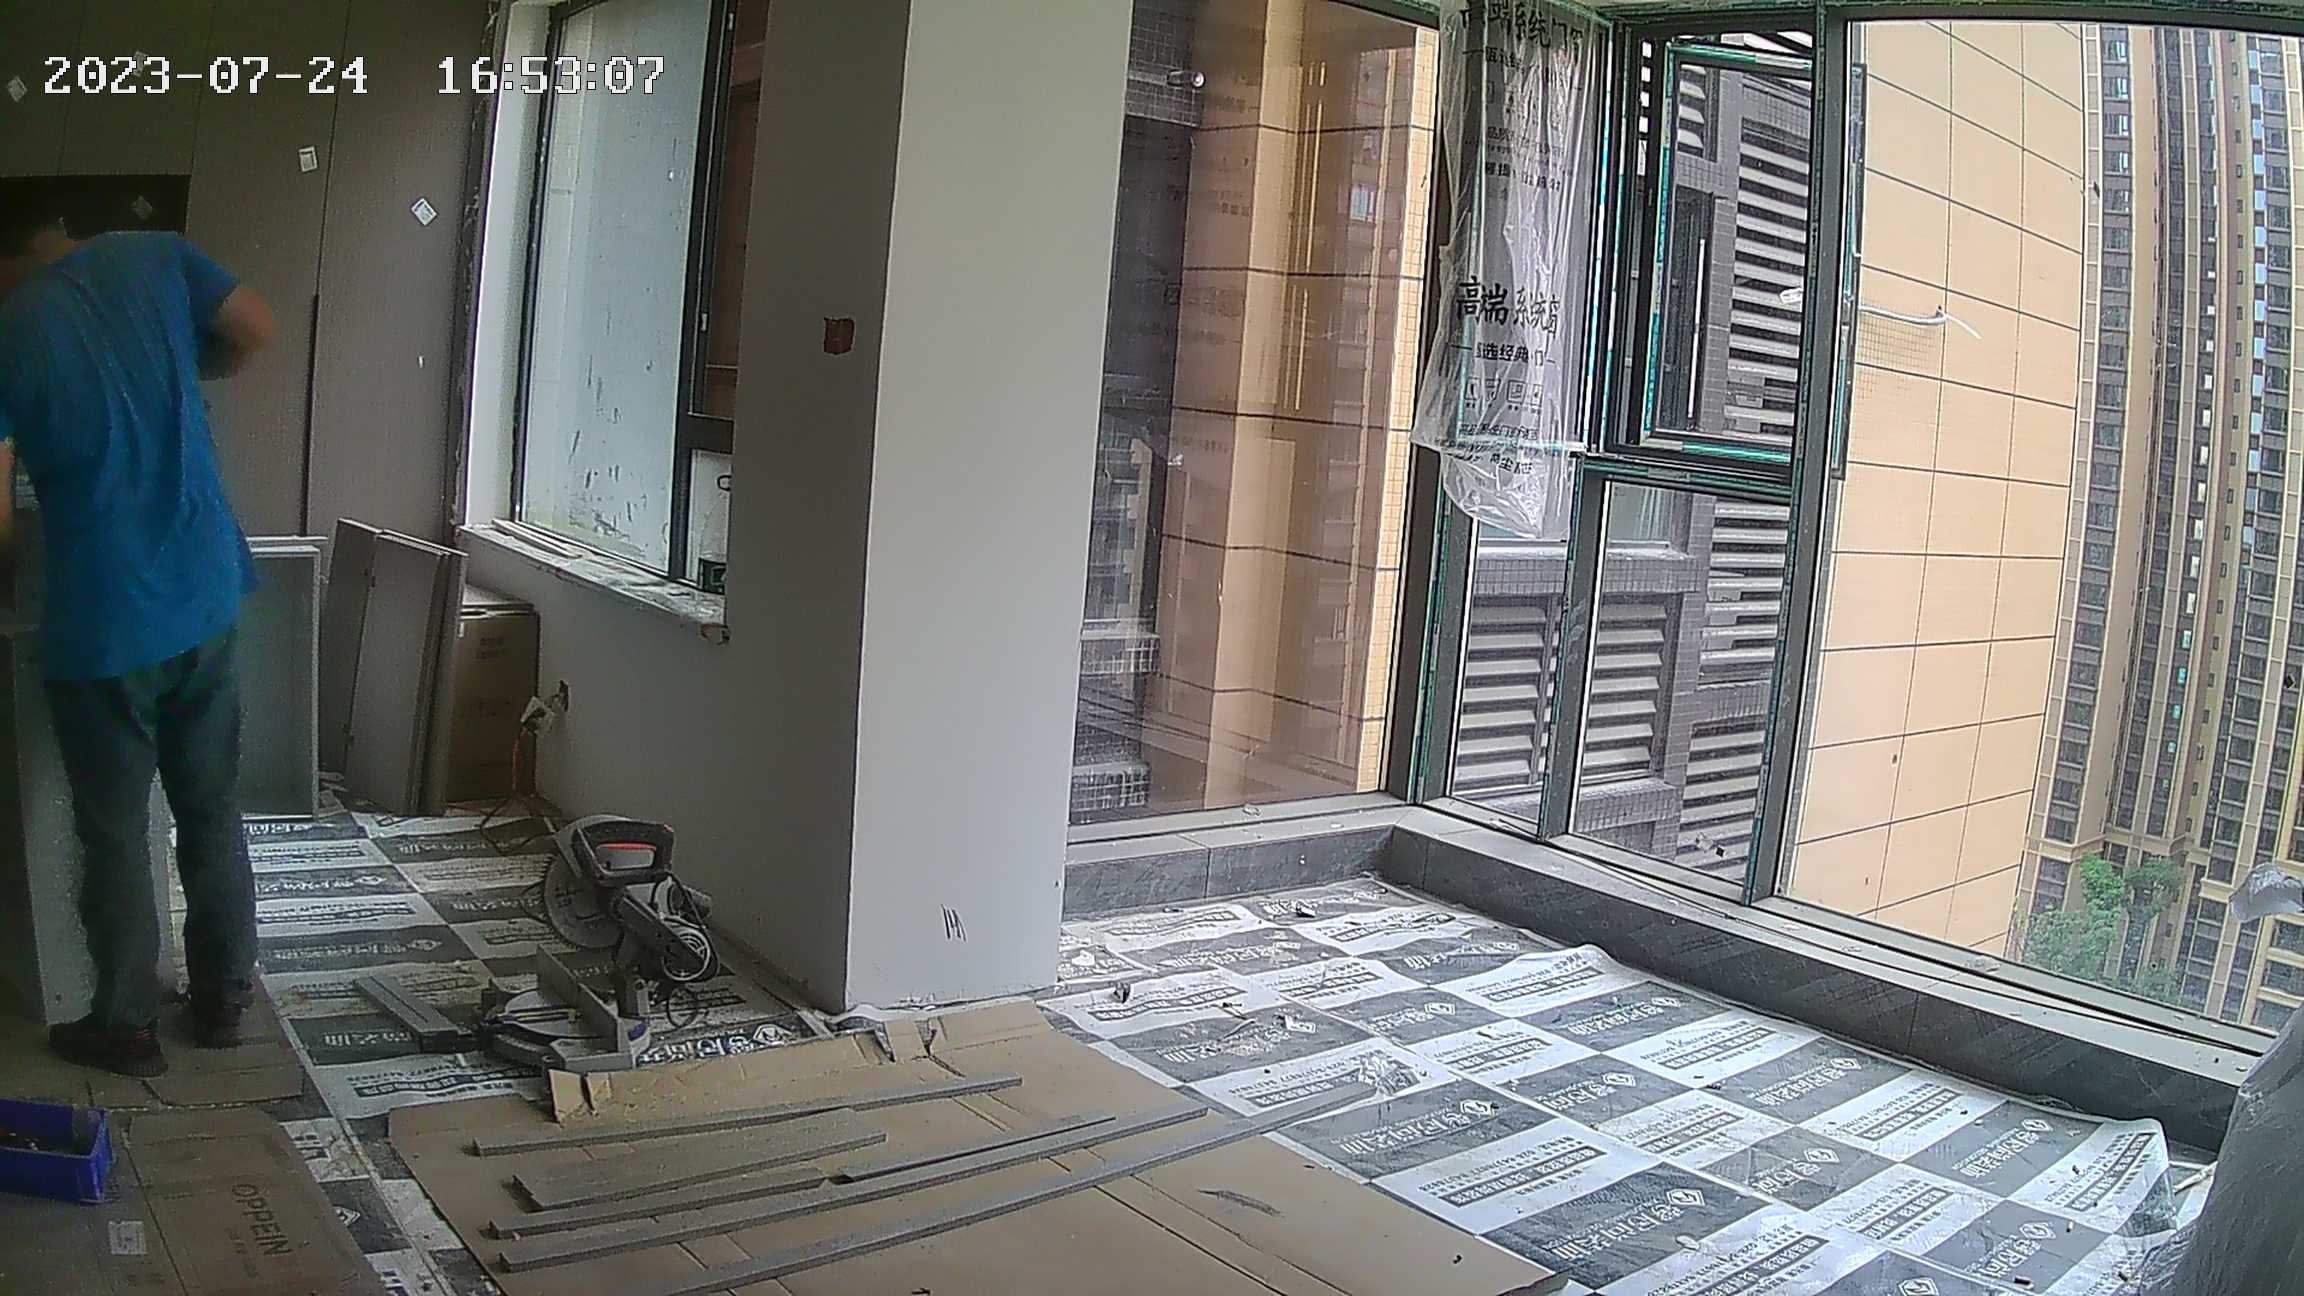people: (5, 211, 275, 1076)
window: (1122, 4, 2304, 1052), (506, 12, 742, 603)
